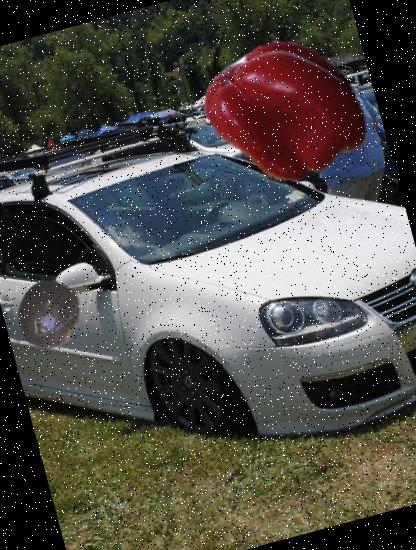Passion: (5, 272, 93, 359)
Pepper: (198, 24, 376, 201)
